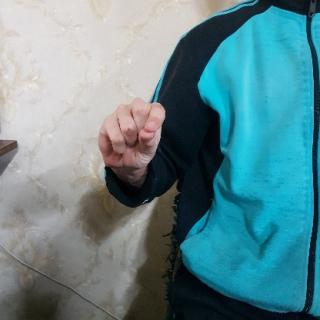FAA: (94, 95, 172, 174)
